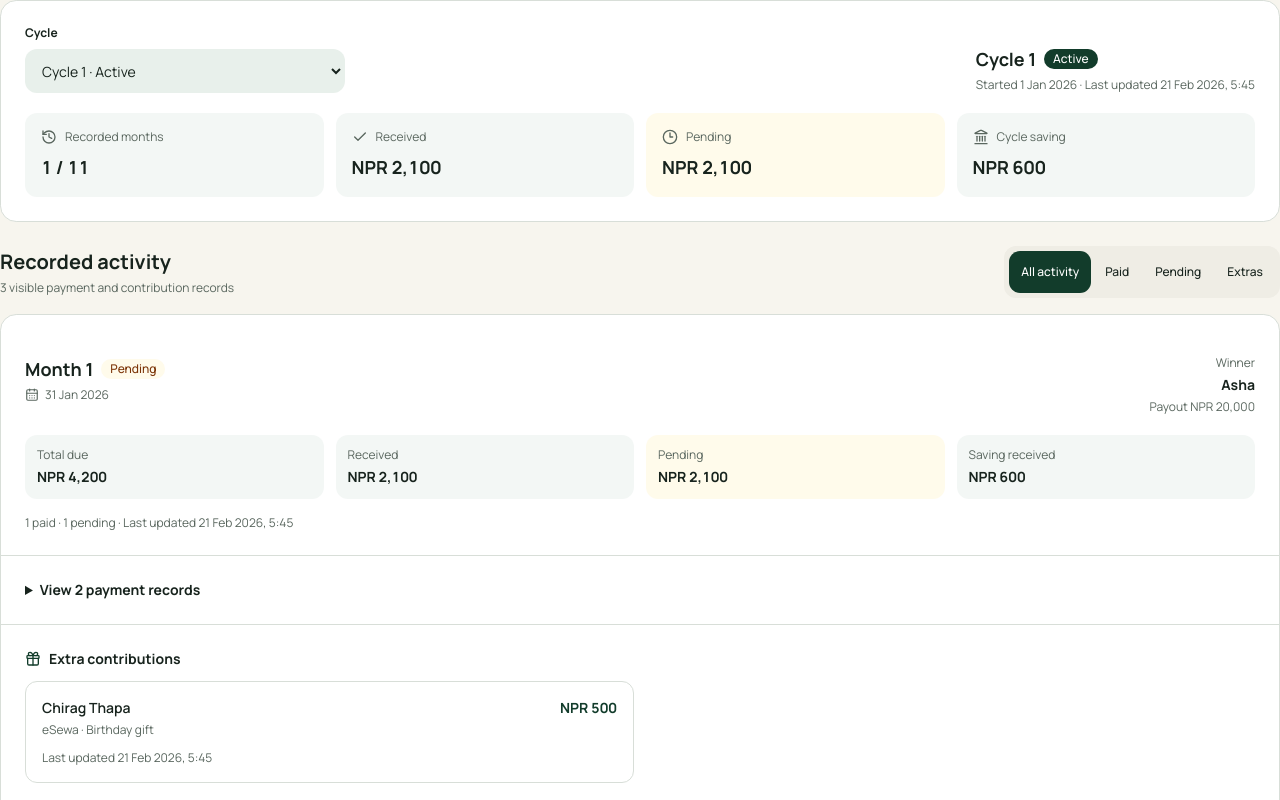
Test case: history explorer › filters paid, pending, and extra contribution records
The image size is (1280, 800).
Click the button "Pending". click: [1178, 272]
box: [1142,250,1214,294]
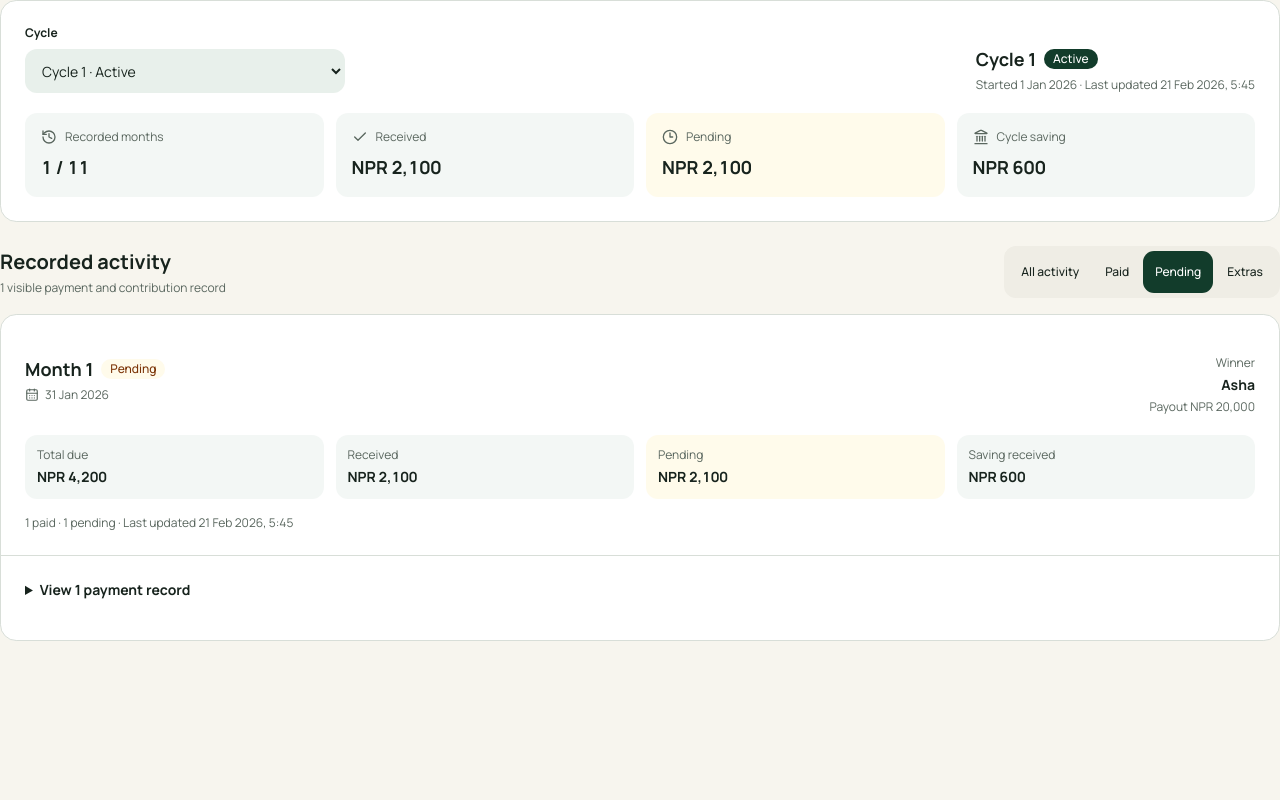
Click the heading "View 1 payment record". click: [115, 590]
box: [40,580,190,599]
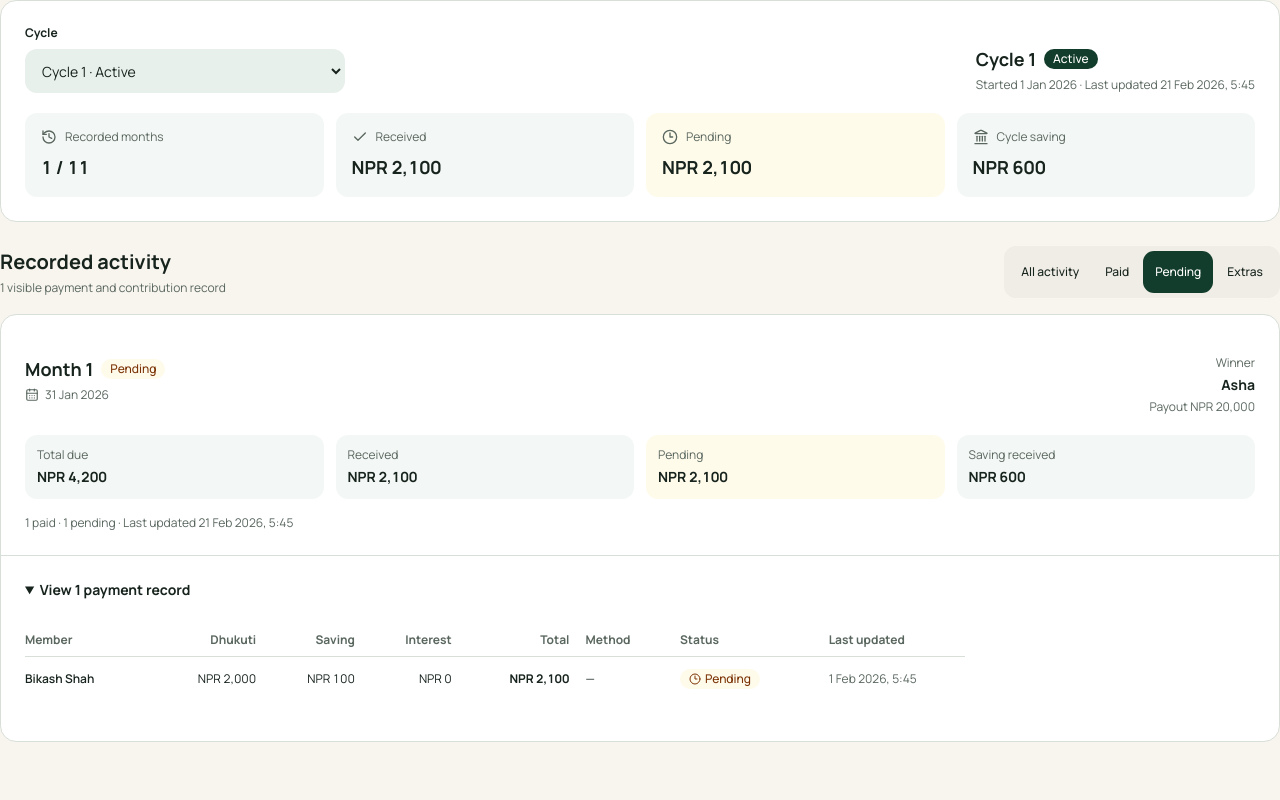
Check: the text "Chirag Thapa" is not shown
Check: the column heading "Bikash Shah" is shown, box [25,656,157,701]
Click the button "Extras". click: [1245, 272]
box: [1214,250,1276,294]
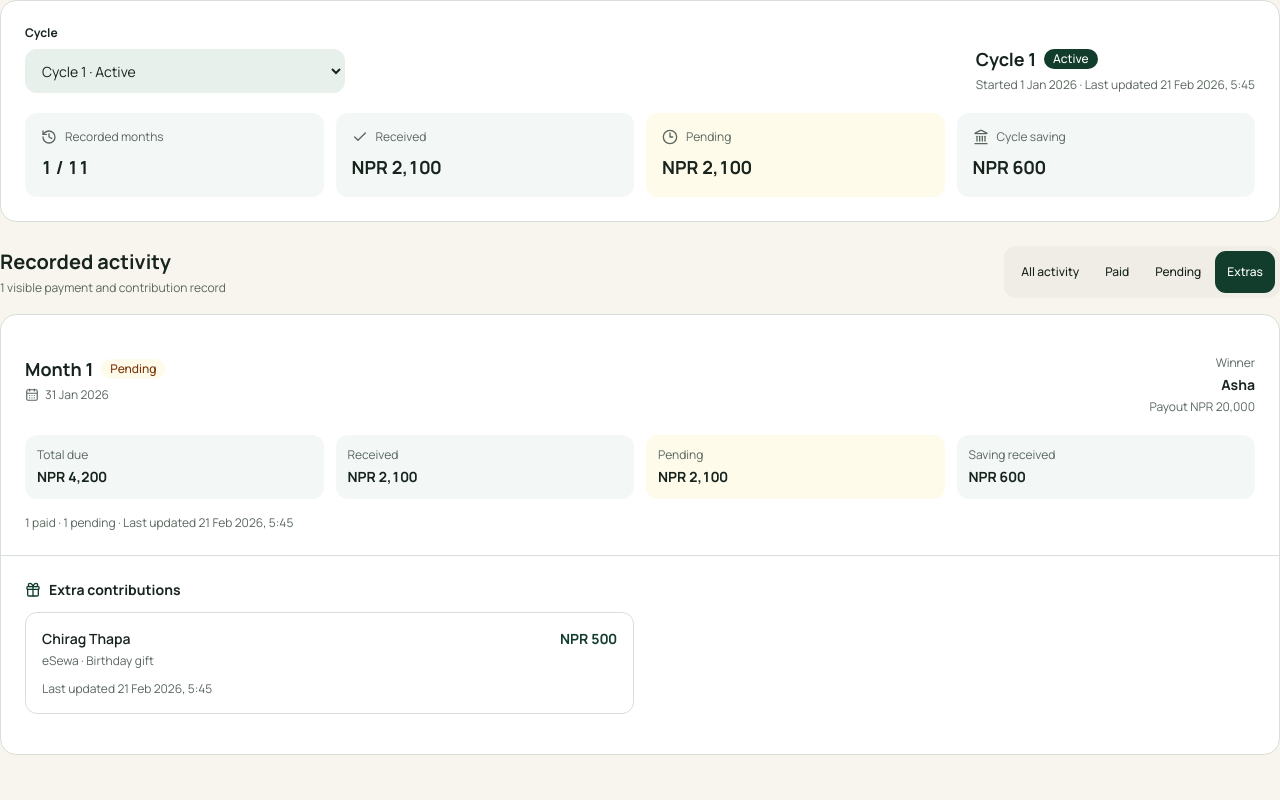
Check: the column heading "Bikash Shah" is gone
Check: the text "Chirag Thapa" is shown, box [42,629,130,648]
Check: the text "Birthday gift" is shown, box [79,652,154,669]
